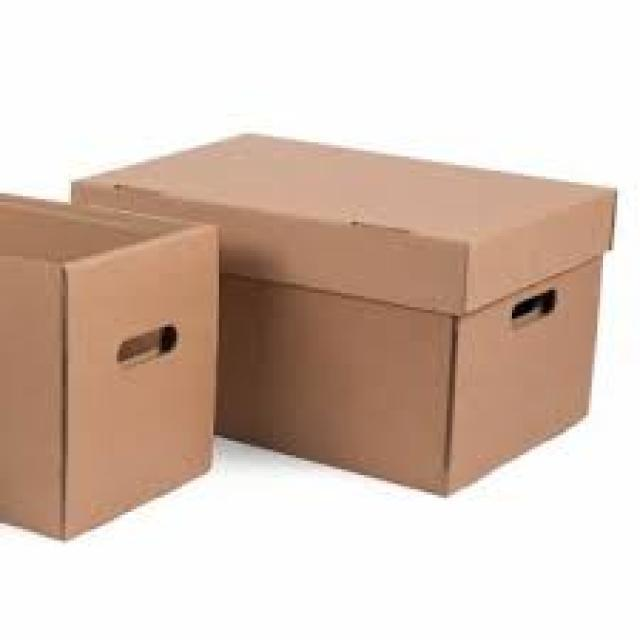Cardboard: (76, 128, 617, 497), (0, 192, 214, 543)
